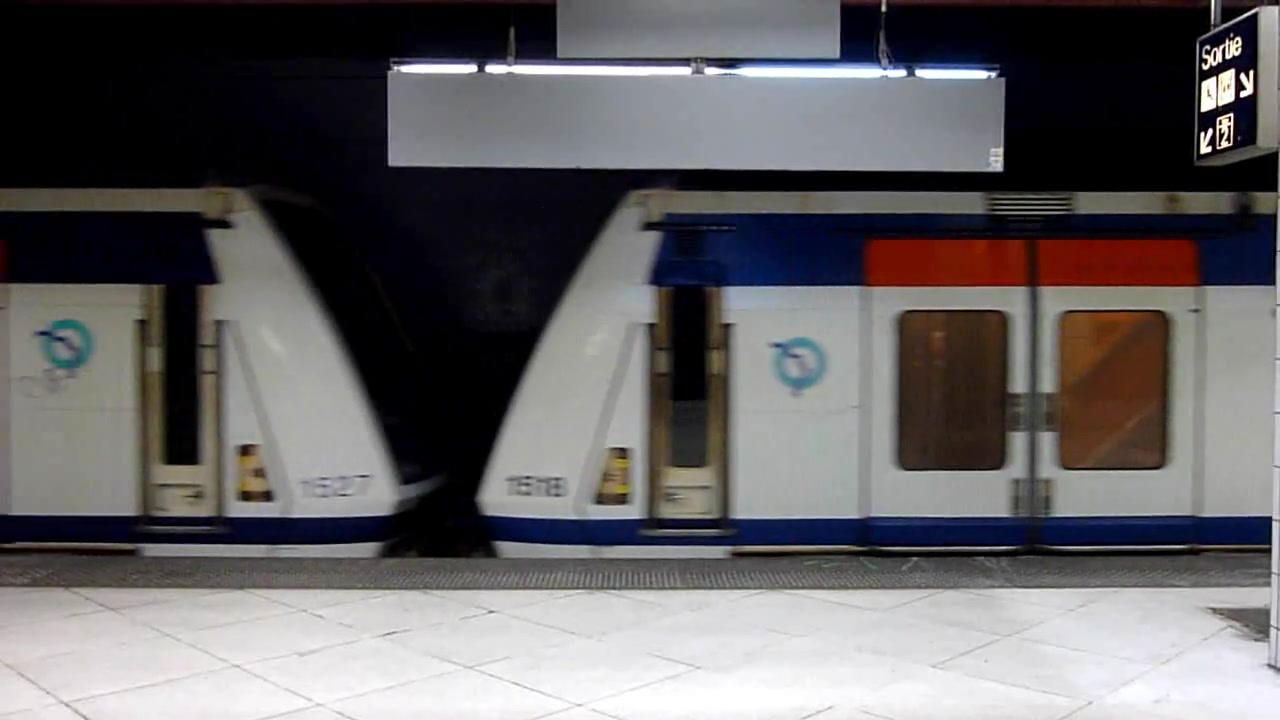train: (1, 163, 1280, 565)
